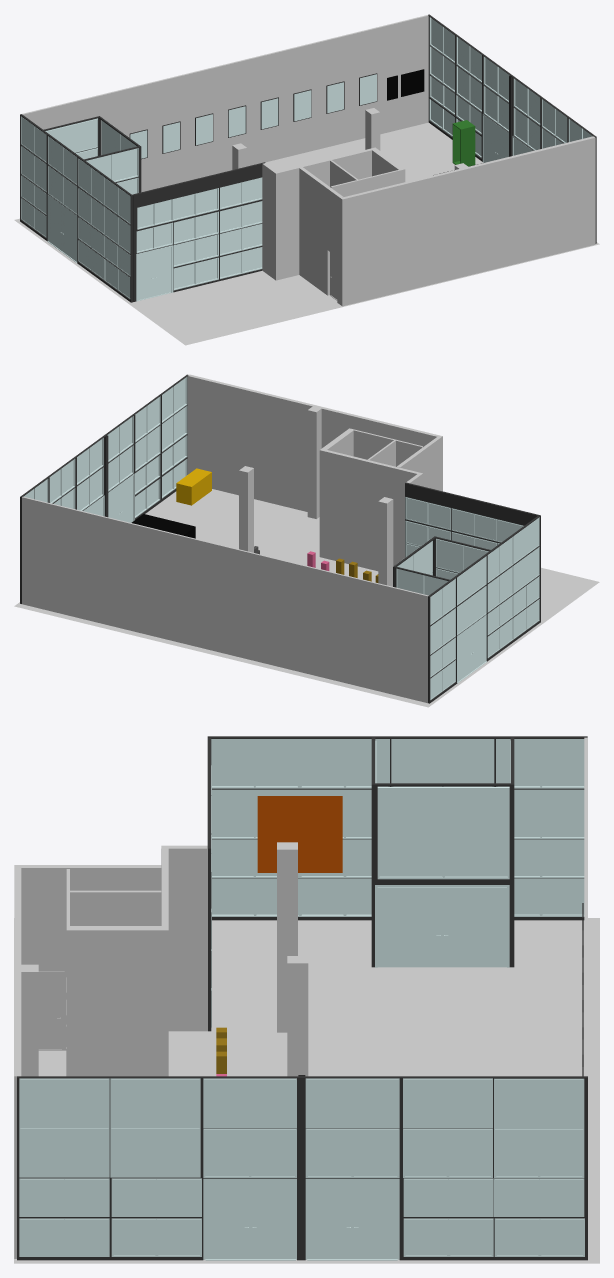
Rendered from Monad.v2.glb.
3 renders of one model, top to bottom at view 1: azimuth 30°, elevation 25°; view 2: azimuth 150°, elevation 25°; view 3: azimuth 270°, elevation 25°, orthographic. The views are drawn at different scales.
Visible parts, largest first — view 1: IfcWall/Wall.015, IfcWall/Wall.008, Plane.001, IfcWall/Wall.010, Cube, IfcWall/Wall.013, IfcWall/Wall.011, IfcWall/Wall.012, IfcWall/Wall.009, IfcWall/Wall.006, IfcDoor/Door.006, IfcDoor/Door.007 (+45 smaller); view 2: IfcWall/Wall.015, IfcWall/Wall.008, Plane.001, IfcWall/Wall.013, IfcWall/Wall.011, IfcWall/Wall.012, IfcWall/Wall.006, IfcColumn/Column.001, IfcDoor/Door.007, IfcColumn/Column, IfcColumn/Column.002, IfcWall/Wall.010 (+38 smaller); view 3: Plane.001, IfcWall/Wall.001, IfcWindow/Window.022, IfcDoor/Door.003, IfcWall/Wall.012, IfcDoor/Door.004, IfcDoor/Door.005, IfcWall/Wall.009, IfcWall/Wall.010, Plane, IfcWindow/Window.053, IfcWindow/Window.033 (+43 smaller).
Boxes of the visible parts, x1,y1,x2,y2 form: IfcWall/Wall.015: (22, 15, 428, 192); IfcWall/Wall.008: (340, 136, 595, 306); Plane.001: (14, 122, 599, 345); IfcWall/Wall.010: (299, 167, 343, 304); Cube: (129, 73, 377, 159); IfcWall/Wall.013: (278, 147, 376, 279); IfcWall/Wall.011: (132, 162, 265, 301); IfcWall/Wall.012: (428, 14, 596, 243); IfcWall/Wall.009: (262, 163, 279, 280); IfcWall/Wall.006: (20, 114, 132, 302); IfcDoor/Door.006: (136, 245, 173, 301); IfcDoor/Door.007: (47, 194, 77, 262); IfcWall/Wall.015: (22, 496, 428, 703); IfcWall/Wall.008: (187, 374, 442, 511); Plane.001: (14, 489, 599, 707); IfcWall/Wall.013: (319, 448, 419, 571); IfcWall/Wall.011: (405, 482, 538, 572); IfcWall/Wall.012: (20, 374, 188, 603); IfcWall/Wall.006: (428, 515, 540, 703); IfcColumn/Column.001: (307, 405, 322, 518); IfcDoor/Door.007: (457, 614, 486, 683); IfcColumn/Column: (378, 497, 393, 586); IfcColumn/Column.002: (239, 466, 253, 552); IfcWall/Wall.010: (396, 437, 440, 490); Plane.001: (14, 918, 599, 1263); IfcWall/Wall.001: (70, 926, 161, 1076); IfcWindow/Window.022: (377, 787, 509, 879); IfcDoor/Door.003: (375, 885, 509, 967); IfcWall/Wall.012: (17, 1076, 587, 1260); IfcDoor/Door.004: (305, 1178, 399, 1260); IfcDoor/Door.005: (203, 1178, 296, 1260); IfcWall/Wall.009: (161, 845, 207, 1031); IfcWall/Wall.010: (21, 865, 161, 1050); Plane: (257, 796, 342, 872); IfcWindow/Window.053: (391, 739, 494, 786); IfcWindow/Window.033: (305, 1128, 399, 1177).
Size of the model in its own units: 23.49 by 5.83 by 16.83.
